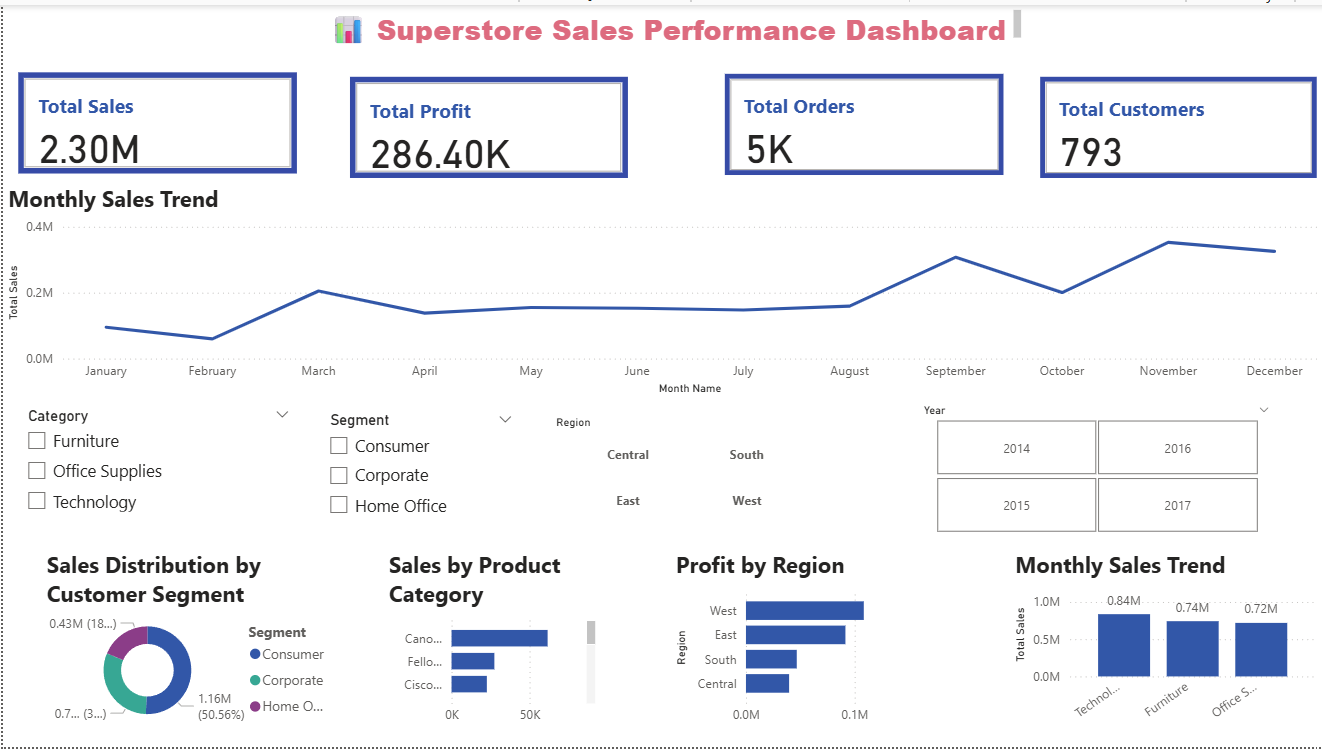

What the dashboard file says about the page in this screenshot:
{"tool":"powerbi","page":{"name":"Page 1","canvas":[1280,720],"ordinal":0},"visuals":[{"type":"textbox","box":[304.4,0,688.1,41.8],"z":0},{"type":"cardVisual","fields":{"Data":["Measure.Total Sales"]},"box":[10.6,61.2,280.5,108.1],"z":1000},{"type":"cardVisual","fields":{"Data":["Measure.Total Profit"]},"box":[331.4,64.7,279.9,108.2],"z":2000},{"type":"cardVisual","fields":{"Data":["Measure.Total Customers"]},"box":[1001.1,64.3,279,108.1],"z":3000},{"type":"cardVisual","fields":{"Data":["Measure.Total Orders"]},"box":[695.5,62.8,280.5,108.1],"z":4000},{"type":"lineChart","title":"Monthly Sales Trend","fields":{"Y":["Measure.Total Sales"],"Category":["MonthTable.Month Name"]},"box":[0,173.1,1279.6,209.2],"z":5000},{"type":"clusteredColumnChart","title":"Monthly Sales Trend","fields":{"Category":["orders.Category"],"Y":["Measure.Total Sales"]},"box":[976.4,528,303.6,178.5],"z":6000},{"type":"clusteredBarChart","title":"Profit by Region","fields":{"Category":["orders.Region"],"Y":["Measure.Total Profit"]},"box":[648.2,528,250.2,178.5],"z":7000},{"type":"donutChart","title":"Sales Distribution by Customer Segment","fields":{"Category":["orders.Segment"],"Y":["Measure.Total Sales"]},"box":[36.8,528,290.7,178.5],"z":8000},{"type":"clusteredBarChart","title":"Sales by Product Category","fields":{"Category":["orders.Product Name"],"Y":["Measure.Total Sales"]},"box":[369.9,528.2,210,178.7],"z":9000},{"type":"slicer","fields":{"Values":["orders.Region"]},"box":[523.7,393.8,278.4,114],"z":10000},{"type":"slicer","fields":{"Values":["orders.Category"]},"box":[11.5,385.2,278.4,122.6],"z":11000},{"type":"slicer","fields":{"Values":["orders.Segment"]},"box":[304.4,389.5,202,116.9],"z":12000},{"type":"slicer","fields":{"Values":["orders.Year"]},"box":[880,382.3,360.7,135.6],"z":13000}]}

Visuals, with their boxes in screenshot pixels (x1, y1, x2, y2), scaled from the page's 1280x720 canvas onto the 1322x750 screenshot:
textbox: region(314, 0, 1025, 44)
cardVisual - Measure.Total Sales: region(11, 64, 301, 176)
cardVisual - Measure.Total Profit: region(342, 67, 631, 180)
cardVisual - Measure.Total Customers: region(1034, 67, 1321, 180)
cardVisual - Measure.Total Orders: region(718, 65, 1008, 178)
"Monthly Sales Trend" lineChart: region(0, 180, 1321, 398)
"Monthly Sales Trend" clusteredColumnChart: region(1008, 550, 1321, 736)
"Profit by Region" clusteredBarChart: region(669, 550, 928, 736)
"Sales Distribution by Customer Segment" donutChart: region(38, 550, 338, 736)
"Sales by Product Category" clusteredBarChart: region(382, 550, 599, 736)
slicer - orders.Region: region(541, 410, 828, 529)
slicer - orders.Category: region(12, 401, 299, 529)
slicer - orders.Segment: region(314, 406, 523, 528)
slicer - orders.Year: region(909, 398, 1281, 539)
